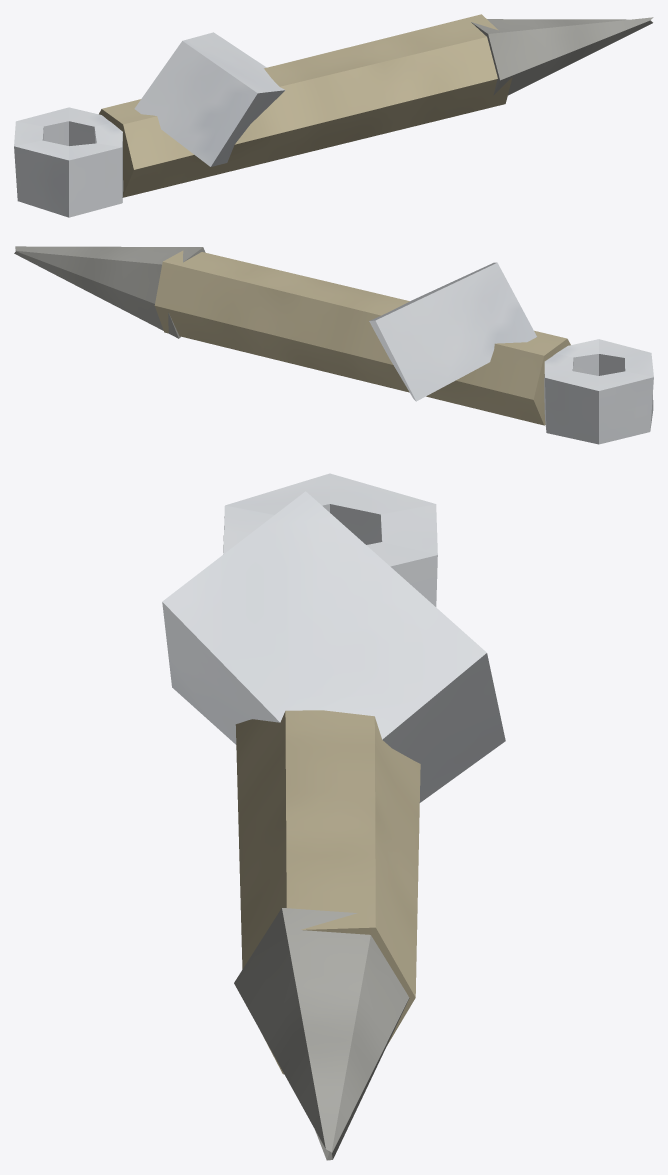
Rendered from needle_cloud.glb.
The picture shows the model from 3 angles, top to bottom: view 1: azimuth 30°, elevation 25°; view 2: azimuth 150°, elevation 25°; view 3: azimuth 270°, elevation 25°; orthographic projection. The views are drawn at different scales.
Parts seen in each view (by area): view 1: NeedleCloud; view 2: NeedleCloud; view 3: NeedleCloud.
Part boxes in pixels (bbox=[...]): NeedleCloud: bbox=[14, 14, 653, 217]; NeedleCloud: bbox=[14, 246, 653, 444]; NeedleCloud: bbox=[162, 473, 505, 1160].
Bounding box in the file's own units: 0.3375 × 0.073 × 0.0786.
4 materials, 3 textured.
